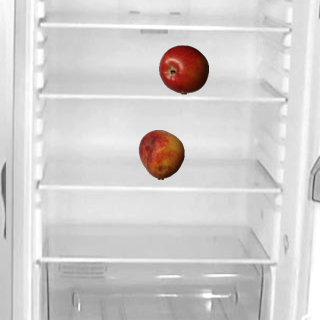Apple Braeburn: (158, 44, 208, 94)
Peach: (136, 129, 186, 179)
